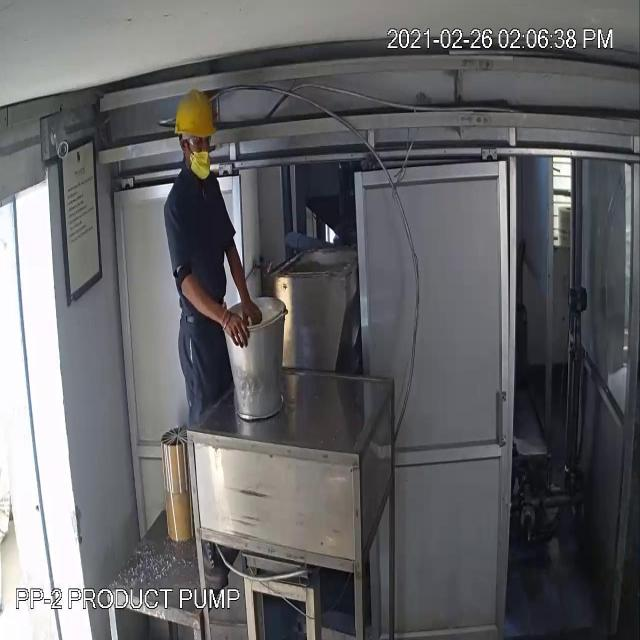helmet: (165, 78, 222, 150)
